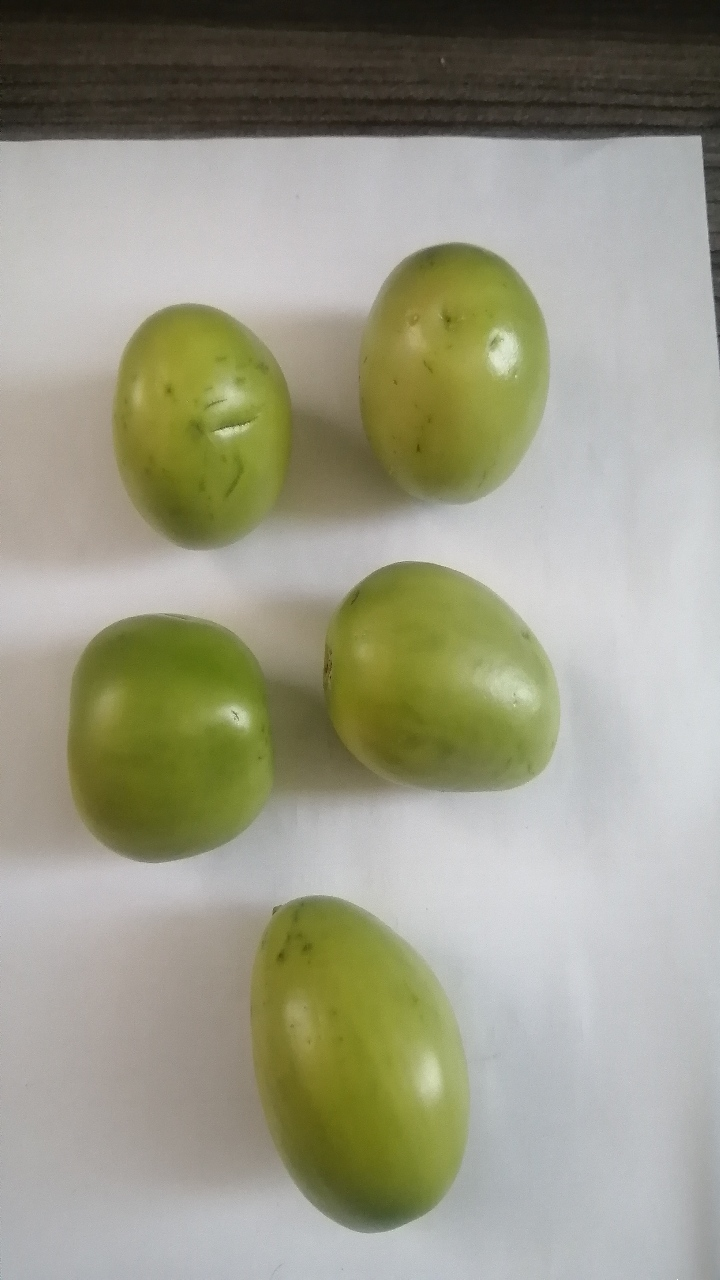tomateVerde: (232, 880, 474, 1254), (289, 542, 572, 826), (332, 214, 555, 532), (48, 600, 291, 879), (101, 291, 308, 563)
